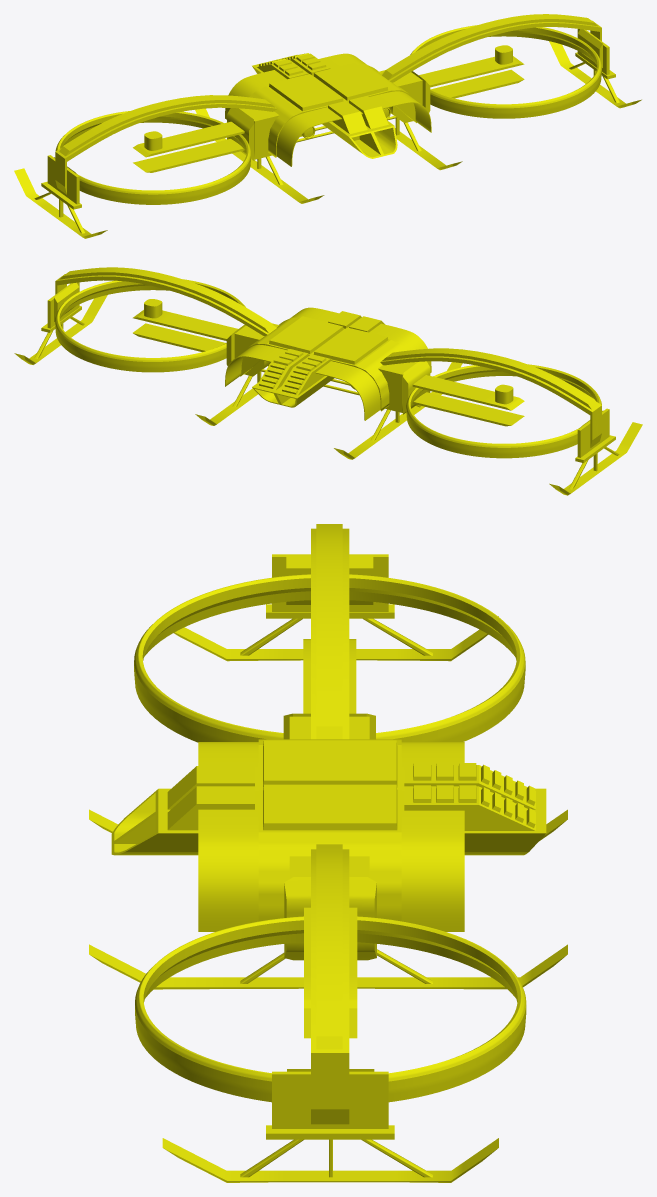
The model's file is drone.glb.
3 views of the same model, one above another, from view 1: azimuth 30°, elevation 25°; view 2: azimuth 150°, elevation 25°; view 3: azimuth 270°, elevation 25° (orthographic). The views are drawn at different scales.
Parts seen in each view (by area): view 1: helicopter, Rotor_R_2, Rotor_L_2; view 2: helicopter, Rotor_R_2, Rotor_L_2; view 3: helicopter, Rotor_L_2, Rotor_R_2.
Boxes of the visible parts, bbox=[...] form: helicopter: bbox=[14, 14, 641, 238]; Rotor_R_2: bbox=[54, 108, 254, 204]; Rotor_L_2: bbox=[410, 25, 602, 118]; helicopter: bbox=[14, 267, 642, 495]; Rotor_R_2: bbox=[403, 361, 603, 458]; Rotor_L_2: bbox=[54, 279, 245, 372]; helicopter: bbox=[89, 524, 567, 1182]; Rotor_L_2: bbox=[135, 877, 526, 1102]; Rotor_R_2: bbox=[134, 555, 525, 742].
Size of the model in its own units: 0.772 by 0.1219 by 0.2938.
1 material, 1 textured.
